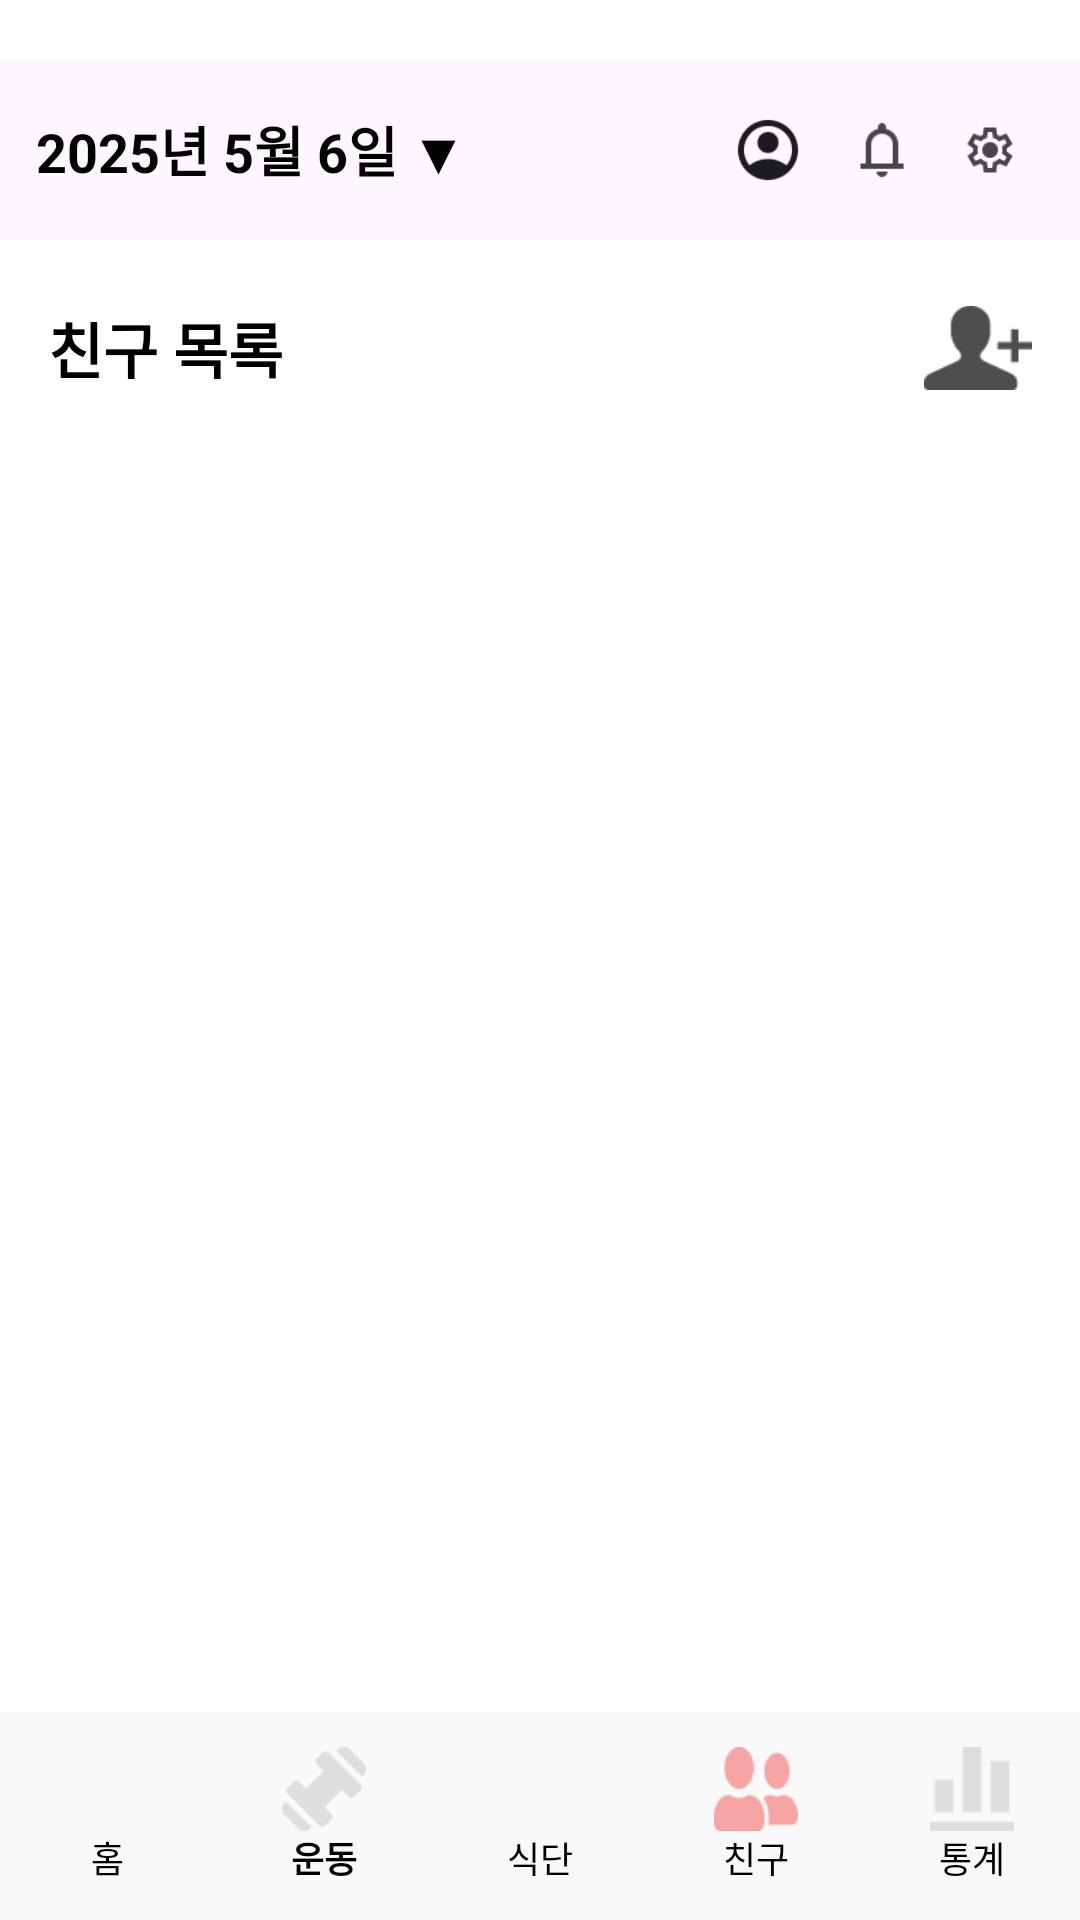

Icons on this 1080w x 1920h Android screen, each with the point to tap as point (x, y):
alarm: point (882, 150)
profile: point (768, 150)
setting: point (990, 150)
친구 추가: point (978, 348)
